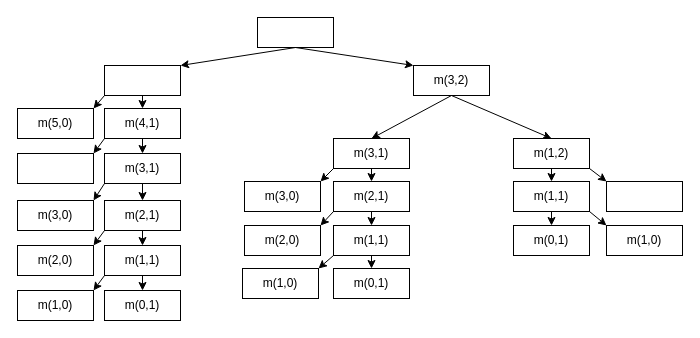
Some shapes in this 700 by 338 pixel diagram are drawn without their labels. The centre of each missing label's shape, as x and y in pixels:
"m(-1,2)" goes at point (644, 196).
"m(4,0)" goes at point (55, 168).
"m(5,1 )" goes at point (142, 80).
"m(5,2)" goes at point (295, 32).
